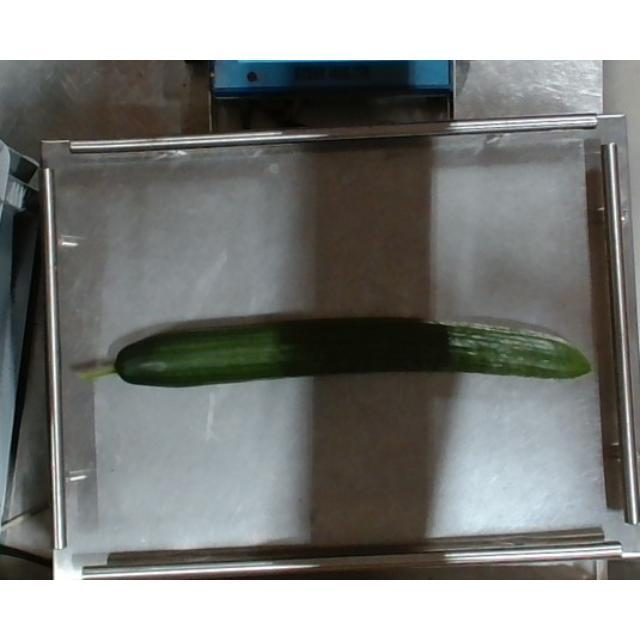cucumber: (75, 314, 592, 388)
